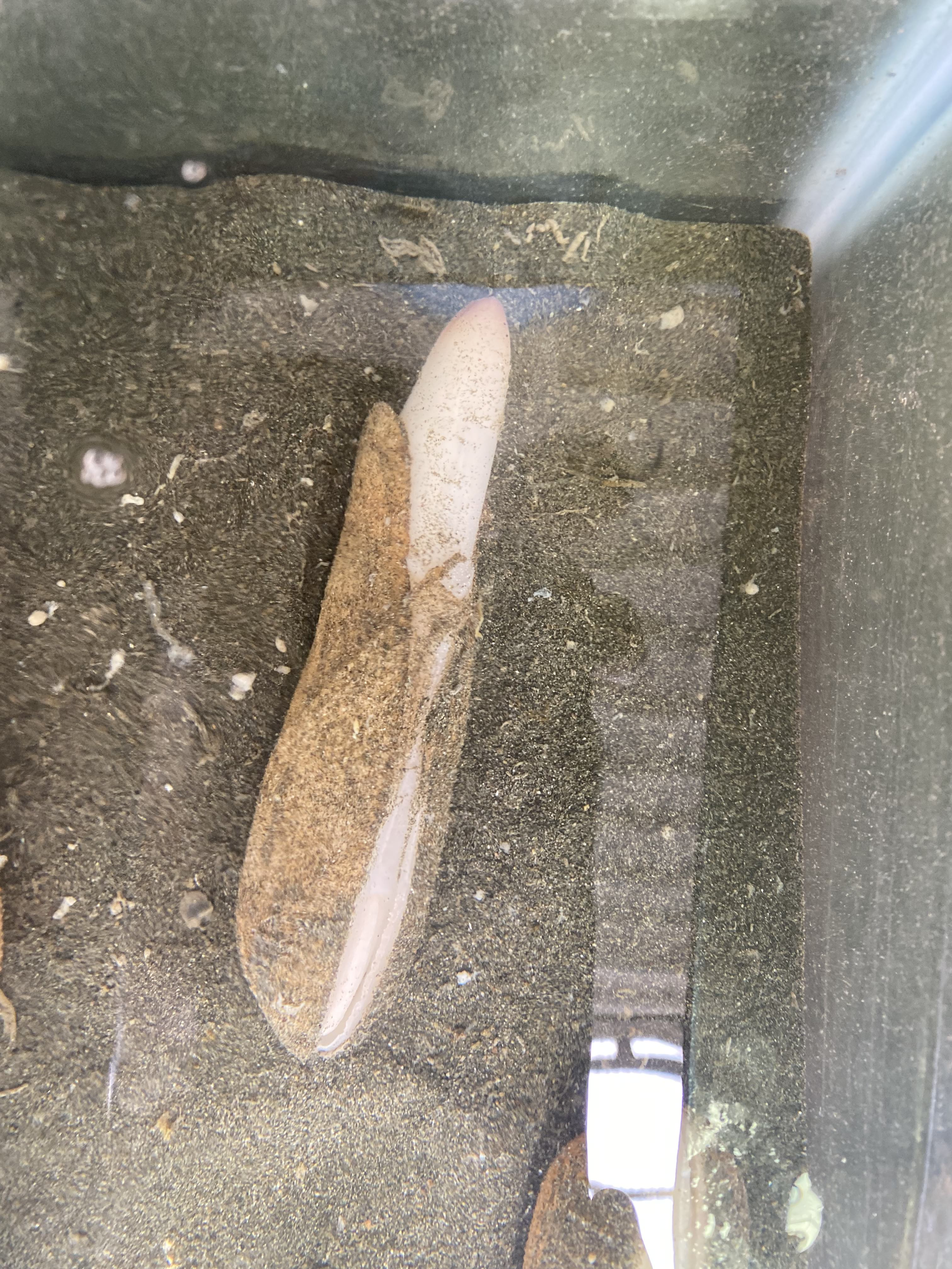Healthy: (237, 299, 510, 1061)
